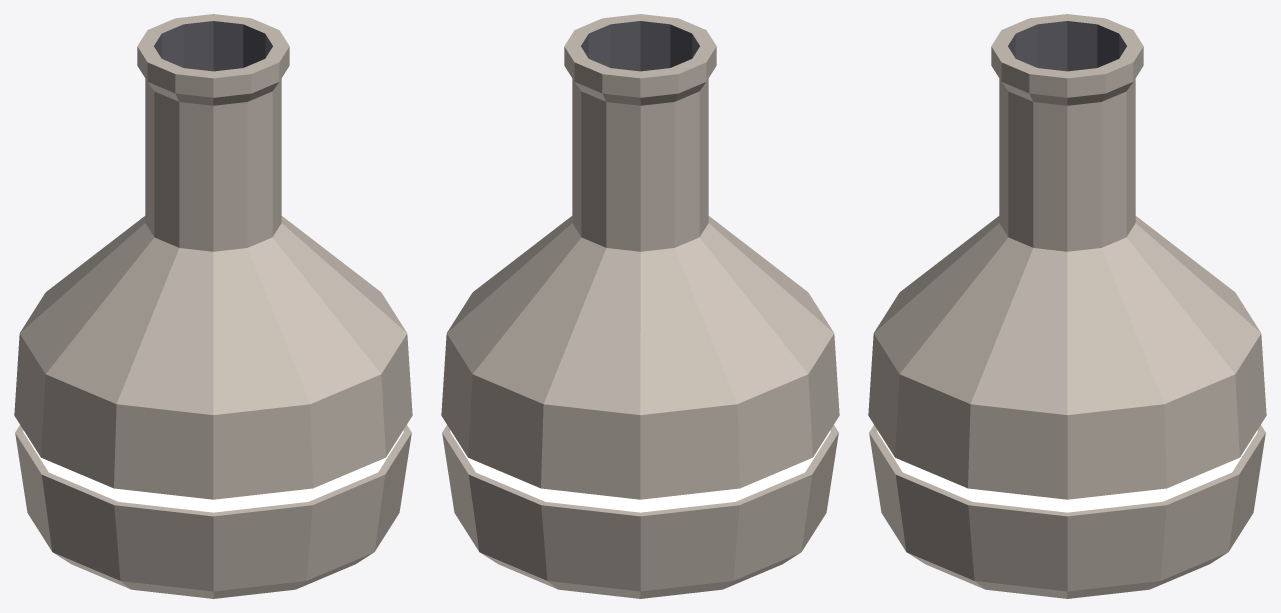
File: SM_Mixture_01_A.glb
The picture shows the model from 3 angles, left to right: view 1: azimuth 30°, elevation 25°; view 2: azimuth 150°, elevation 25°; view 3: azimuth 270°, elevation 25°; orthographic projection.
Visible parts, largest first — view 1: SM_Mixture_01_A; view 2: SM_Mixture_01_A; view 3: SM_Mixture_01_A.
Part boxes in pixels (box(x1,y1,x2,y2)): SM_Mixture_01_A: box(14, 14, 412, 598); SM_Mixture_01_A: box(441, 14, 839, 598); SM_Mixture_01_A: box(868, 14, 1266, 598).
Bounding box in the file's own units: 0.1128 × 0.151 × 0.1128.
2 materials, 1 textured.
